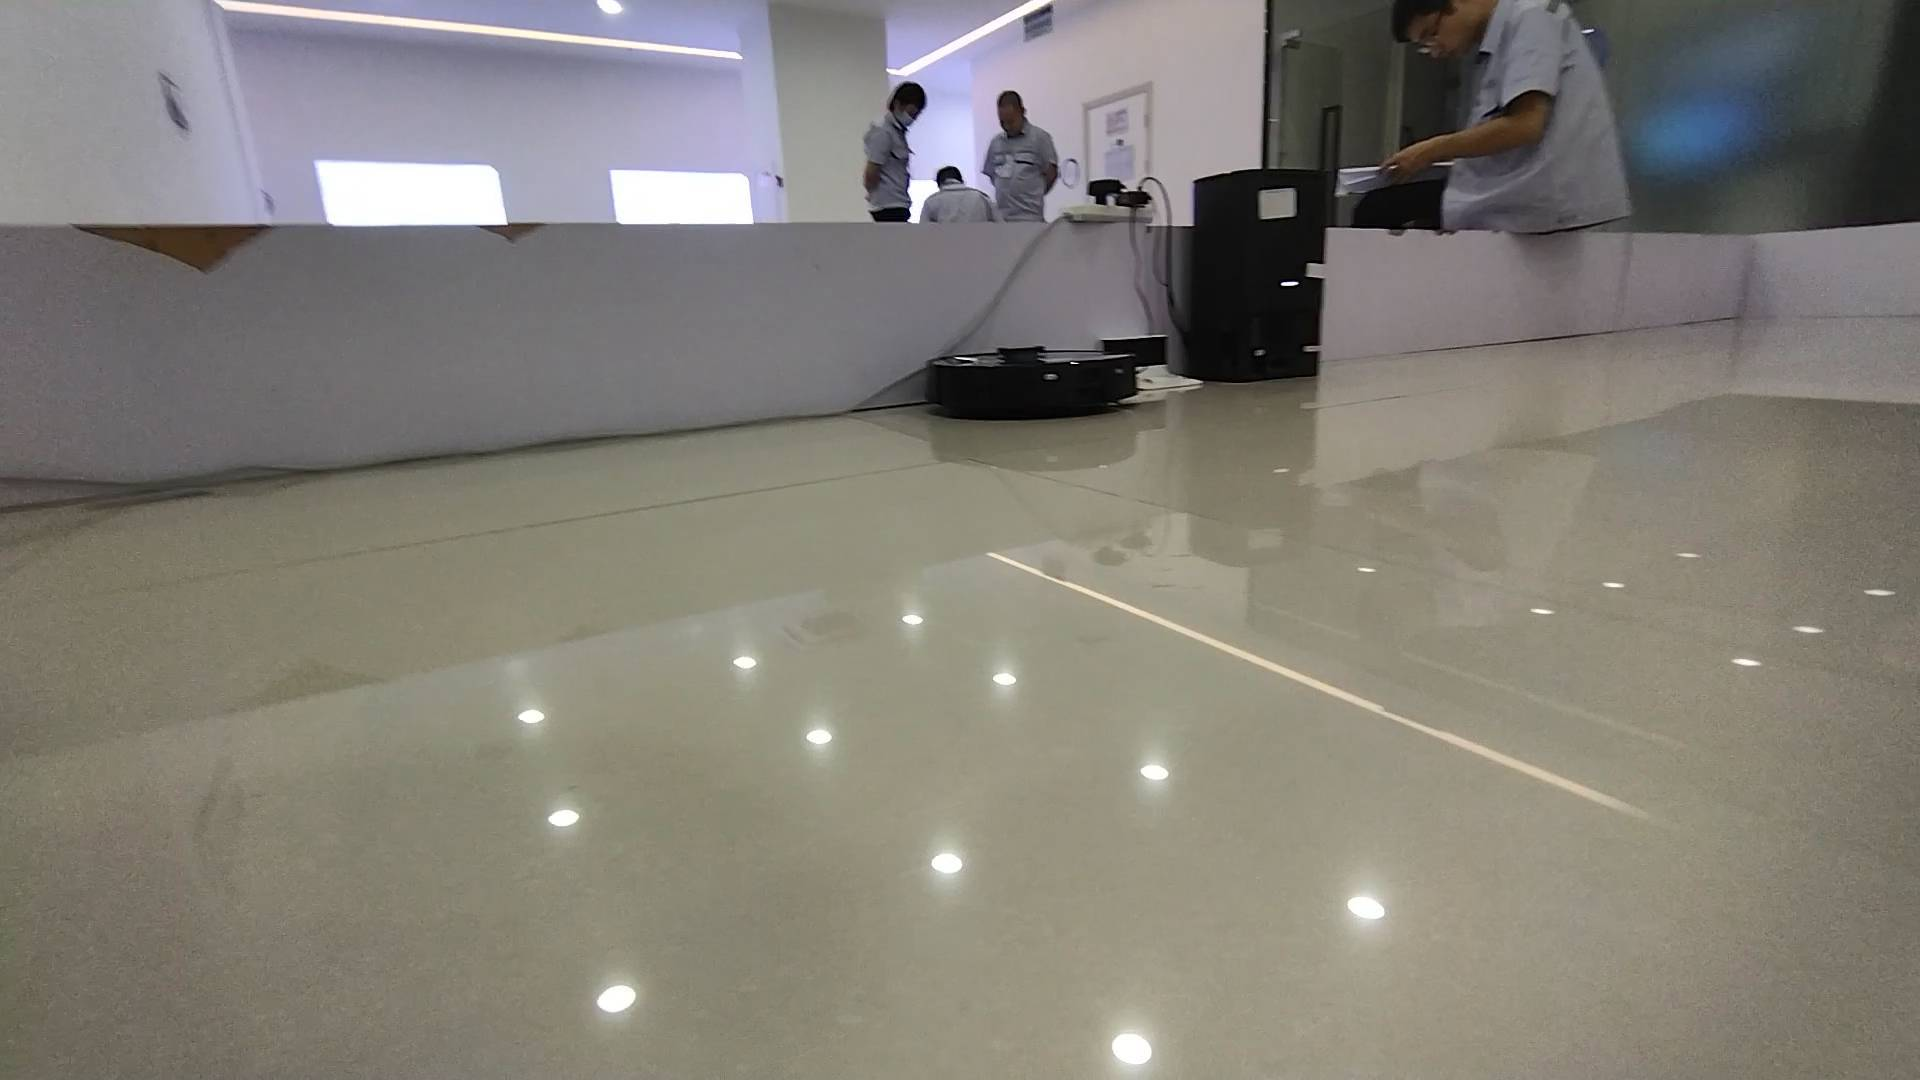dust collecting barrel: (1189, 169, 1325, 382)
recharge seat: (1098, 338, 1204, 392)
